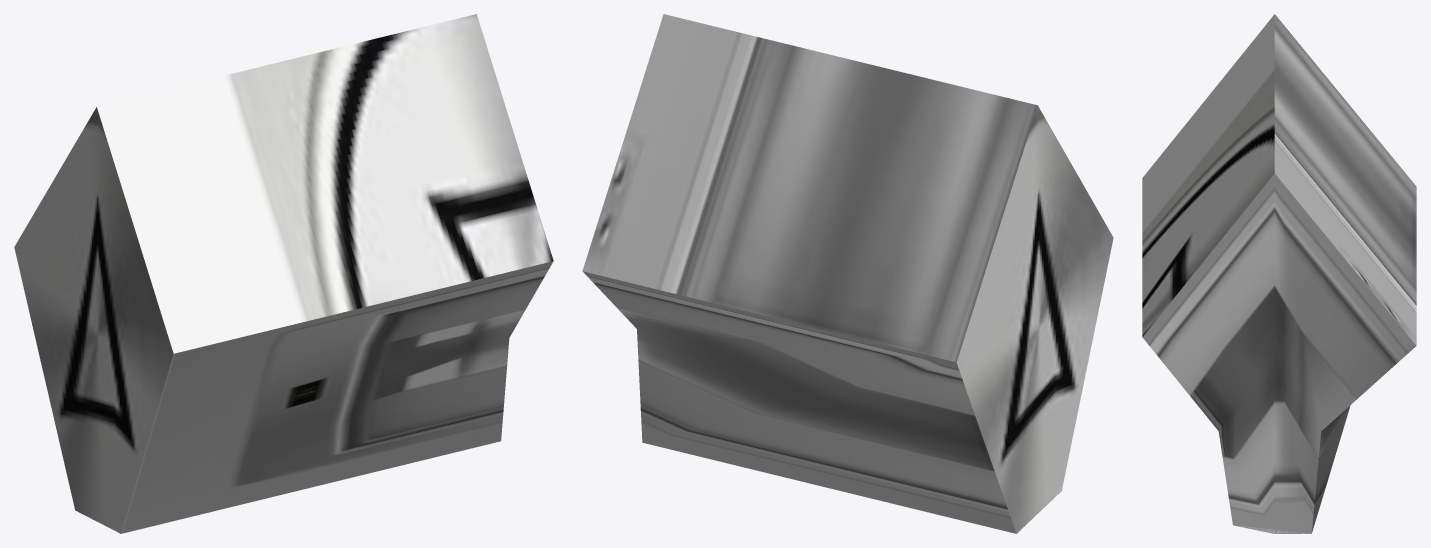
The model's file is hissiup.gltf.
3 views of the same model, side by side, from view 1: azimuth 30°, elevation 25°; view 2: azimuth 150°, elevation 25°; view 3: azimuth 270°, elevation 25° (orthographic). The views are drawn at different scales.
Visible parts, largest first — view 1: hissiup; view 2: hissiup; view 3: hissiup.
Boxes of the visible parts, <box> form: hissiup: <box>14,14,553,533</box>; hissiup: <box>582,14,1113,533</box>; hissiup: <box>1142,14,1416,533</box>.
Size of the model in its own units: 0.0968 by 0.1021 by 0.0703.
2 materials, 2 textured.
